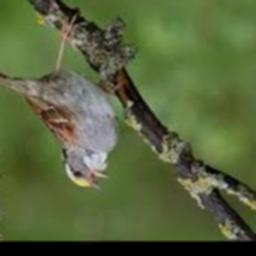Sparrow: (0, 10, 120, 192)
